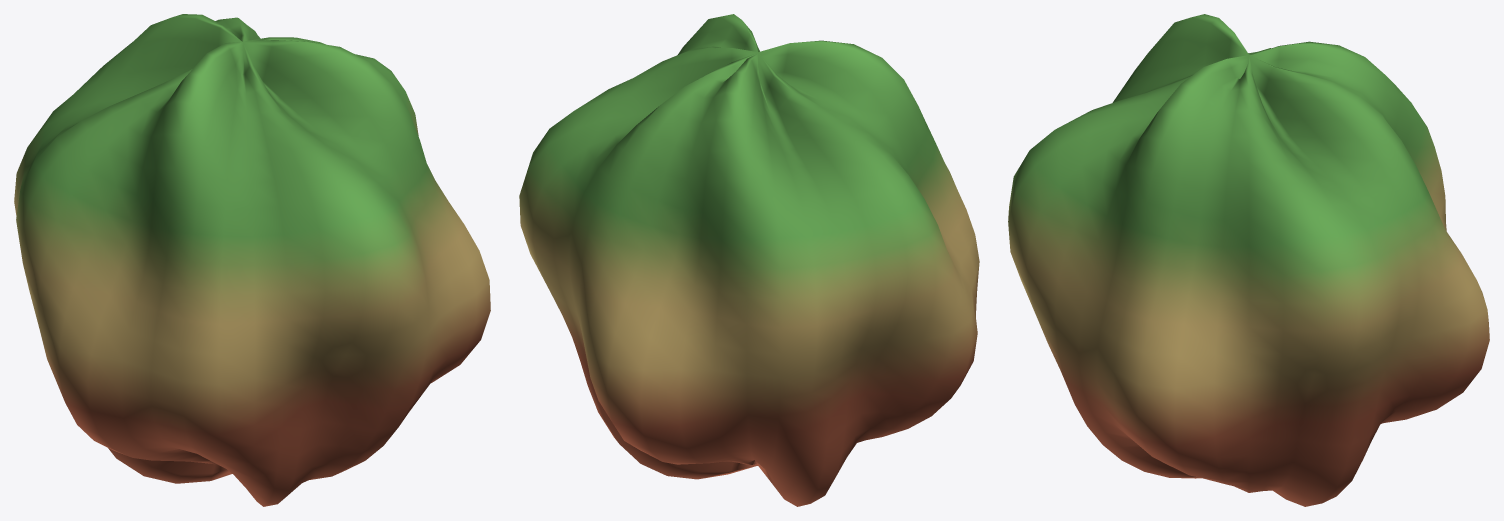
Rendered from painted_blob.gltf.
The picture shows the model from 3 angles, left to right: view 1: azimuth 30°, elevation 25°; view 2: azimuth 150°, elevation 25°; view 3: azimuth 270°, elevation 25°; orthographic projection. The views are drawn at different scales.
Visible parts, largest first — view 1: PaintedBlob; view 2: PaintedBlob; view 3: PaintedBlob.
Part boxes in pixels (left/top/right/bottom): PaintedBlob: left=14, top=14, right=490, bottom=506; PaintedBlob: left=519, top=14, right=979, bottom=506; PaintedBlob: left=1008, top=14, right=1489, bottom=506.
Size of the model in its own units: 1.47 by 1.57 by 1.54.
